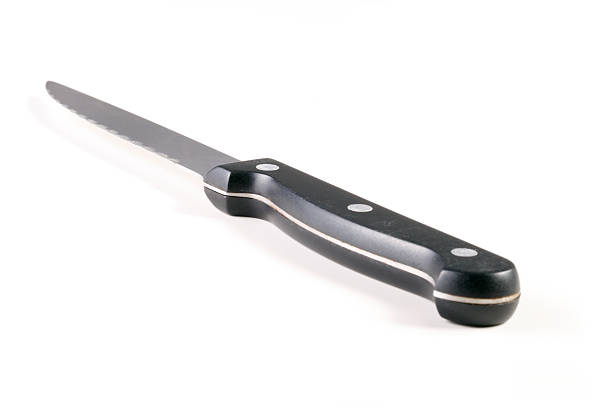knife: (42, 80, 523, 331)
